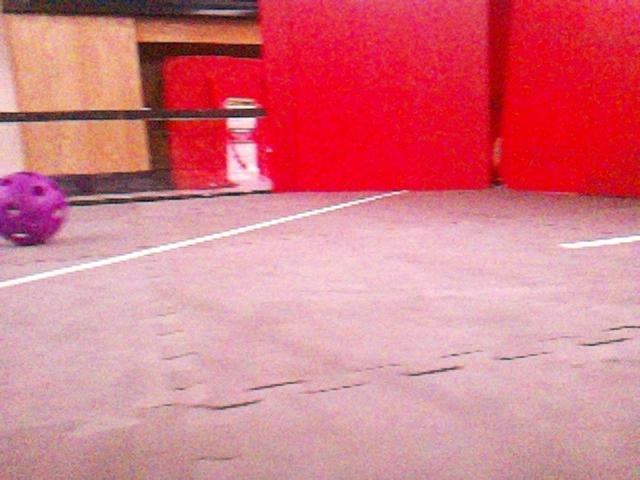Purple: (0, 170, 70, 244)
